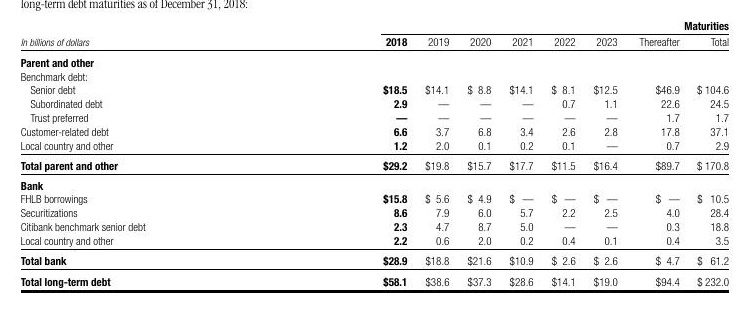table: (0, 0, 748, 314)
